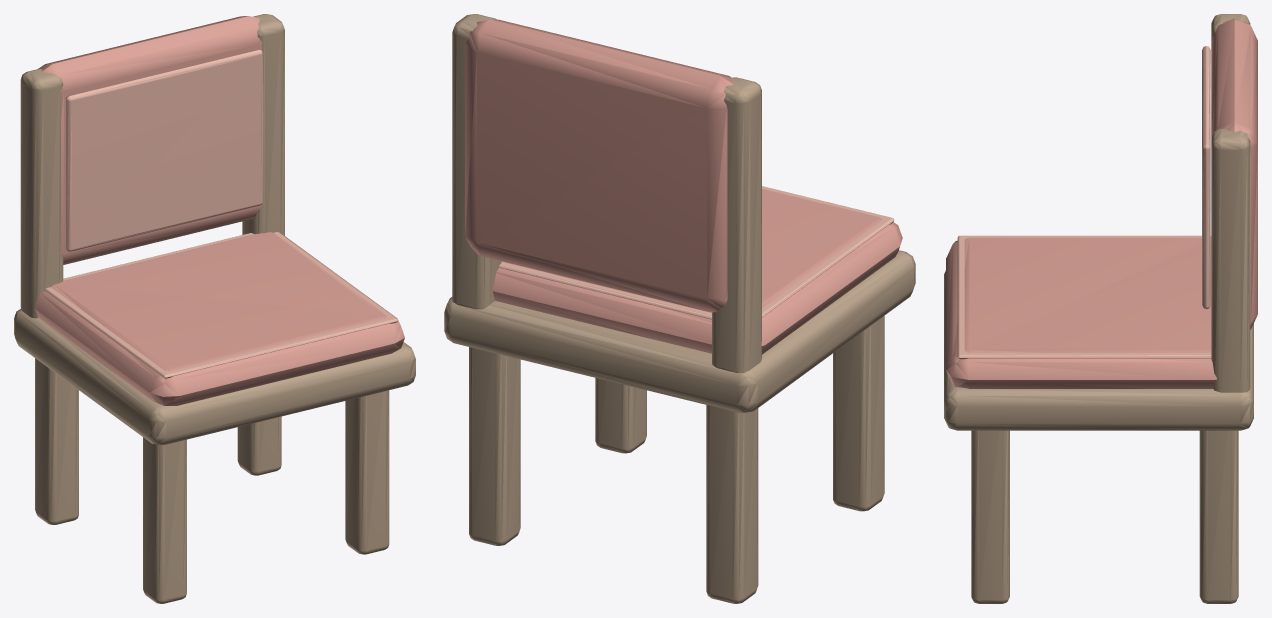
Rendered from DiningChair.fbx.
The picture shows the model from 3 angles, left to right: view 1: azimuth 30°, elevation 25°; view 2: azimuth 150°, elevation 25°; view 3: azimuth 270°, elevation 25°; orthographic projection. The views are drawn at different scales.
Visible parts, largest first — view 1: DiningChair; view 2: DiningChair; view 3: DiningChair.
Part boxes in pixels (left/top/right/bottom): DiningChair: left=14, top=14, right=415, bottom=603; DiningChair: left=444, top=14, right=915, bottom=603; DiningChair: left=944, top=14, right=1257, bottom=603.
Size of the model in its own units: 0.84 by 1.35 by 0.81.
